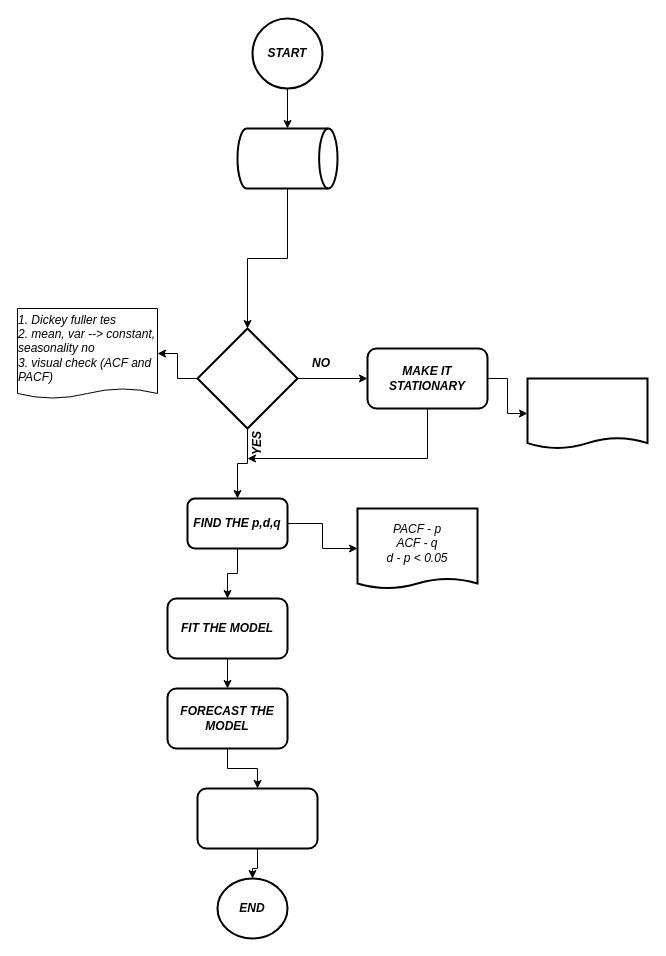
Some shapes in this 666 by 956 pixel diagram are drawn without their labels. The shapes that lost their labels are listed below. From the top down, each one's box as (x1, y1, x2, y2) in pixels, then its label:
(236, 127, 338, 189): TIME SERIES DATA
(196, 327, 298, 429): STATIONA LITY?
(526, 377, 648, 449): differencing time series data
(196, 787, 318, 849): ERROR METRICS
